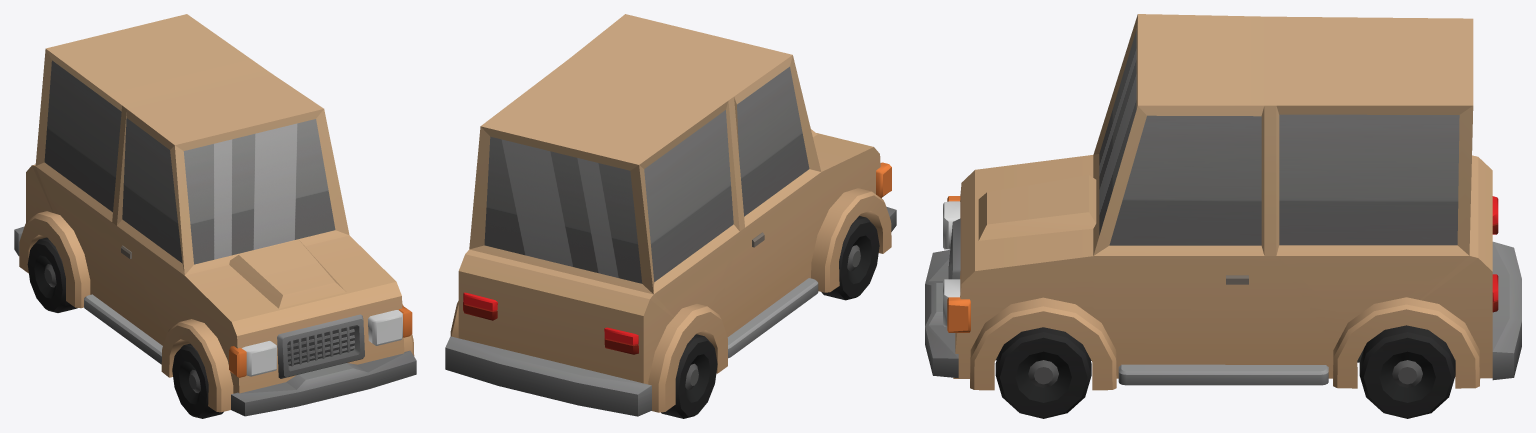
Rendered from Car_5_4.glb.
3 views of the same model, side by side, from view 1: azimuth 30°, elevation 25°; view 2: azimuth 150°, elevation 25°; view 3: azimuth 270°, elevation 25° (orthographic). The views are drawn at different scales.
Parts seen in each view (by area): view 1: Car_5_4, W_br, W_fr; view 2: Car_5_4, W_br, W_fr; view 3: Car_5_4, W_bl, W_fl.
Boxes of the visible parts, x1,y1,x2,y2 form: Car_5_4: [14, 14, 416, 416]; W_br: [27, 237, 77, 312]; W_fr: [172, 343, 223, 418]; Car_5_4: [445, 14, 896, 416]; W_br: [661, 334, 717, 418]; W_fr: [821, 216, 879, 300]; Car_5_4: [925, 14, 1521, 390]; W_bl: [1359, 325, 1455, 418]; W_fl: [995, 327, 1091, 418].
Bounding box in the file's own units: 1.13 × 1.3 × 2.33.
6 materials, 6 textured.
